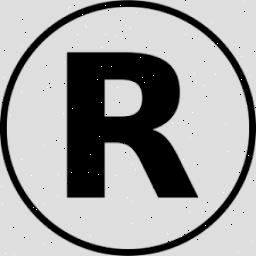r: (61, 40, 203, 210)
